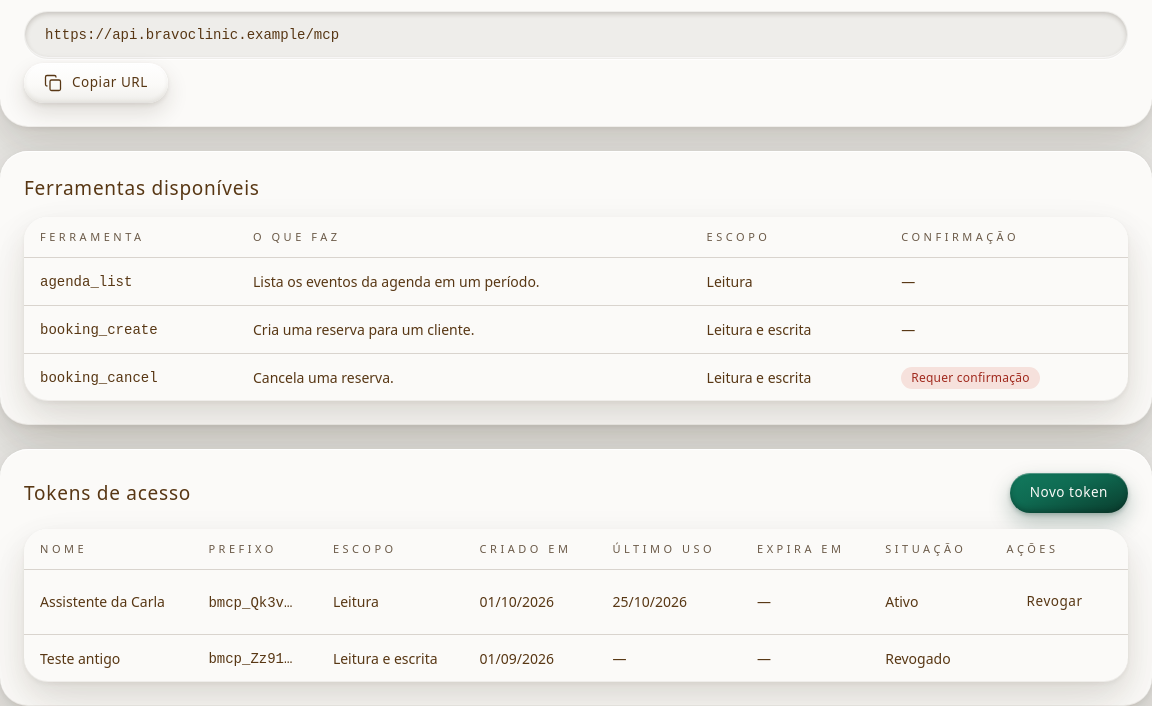
McpTab tokens (GES-53, GES-54) › lists tokens by prefix and revokes one after confirmation
(page scrolled)
Expected: the table named "Ferramentas do servidor MCP" is shown, [24,217,1128,401]
Expected: the text "bmcp_Qk3v…" is shown, [208,594,292,610]
Click the button with aria-label "Revogar token Assistente da Carla" at coordinates (1055, 602), box [1007,582,1103,622]
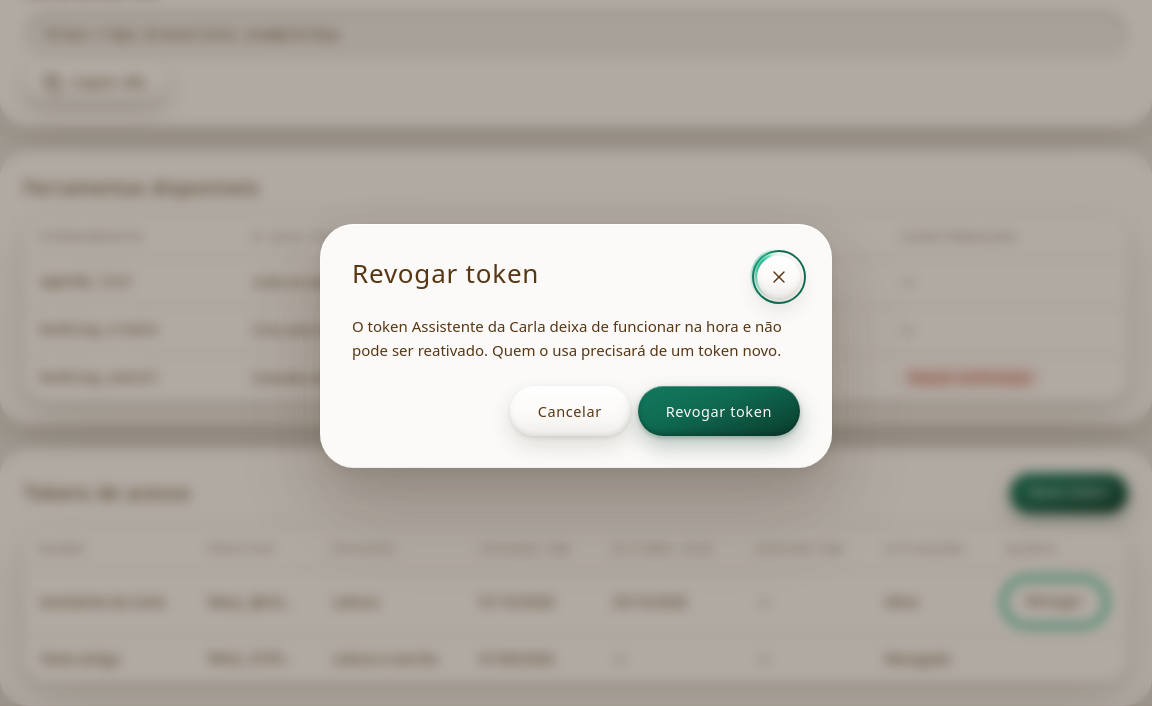
Click the button "Revogar token" at coordinates (719, 411), box [638,386,800,436]
(page scrolled)
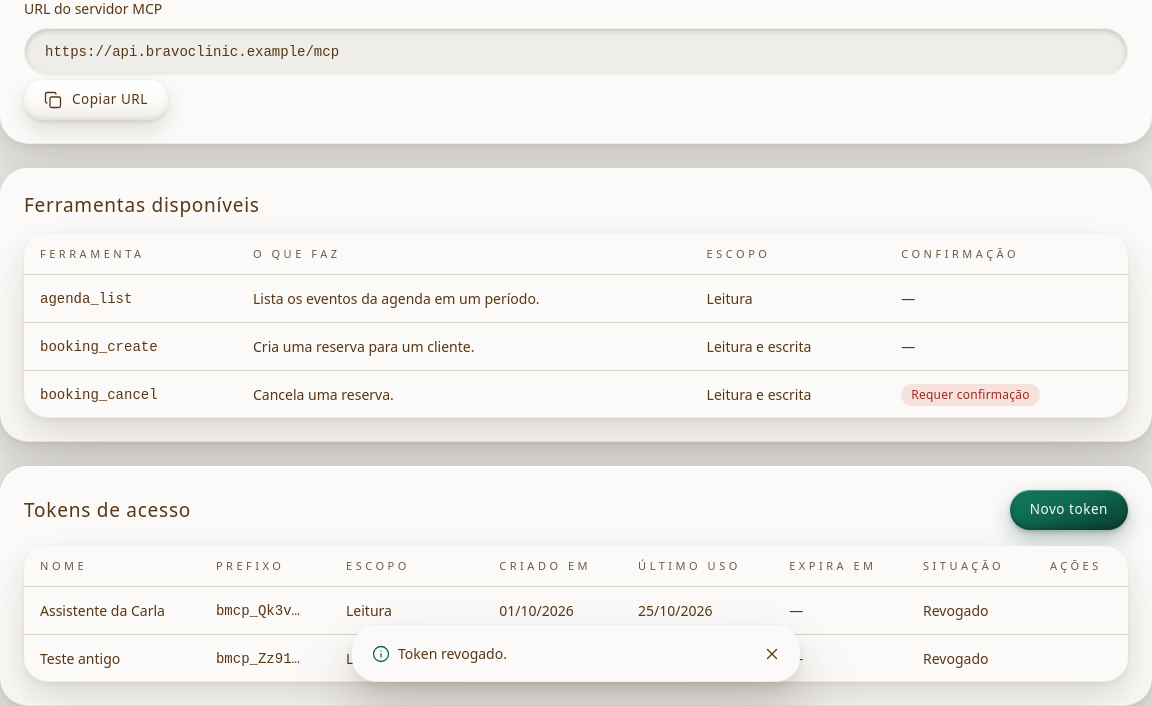
Expected: the text "Revogado" in the row of "Assistente da Carla" is shown, [923,600,988,620]
